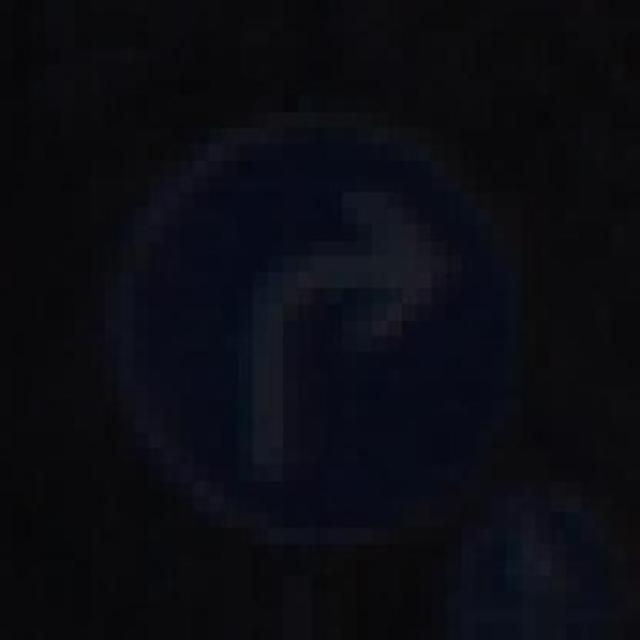Turn right ahead: (104, 80, 565, 528)
